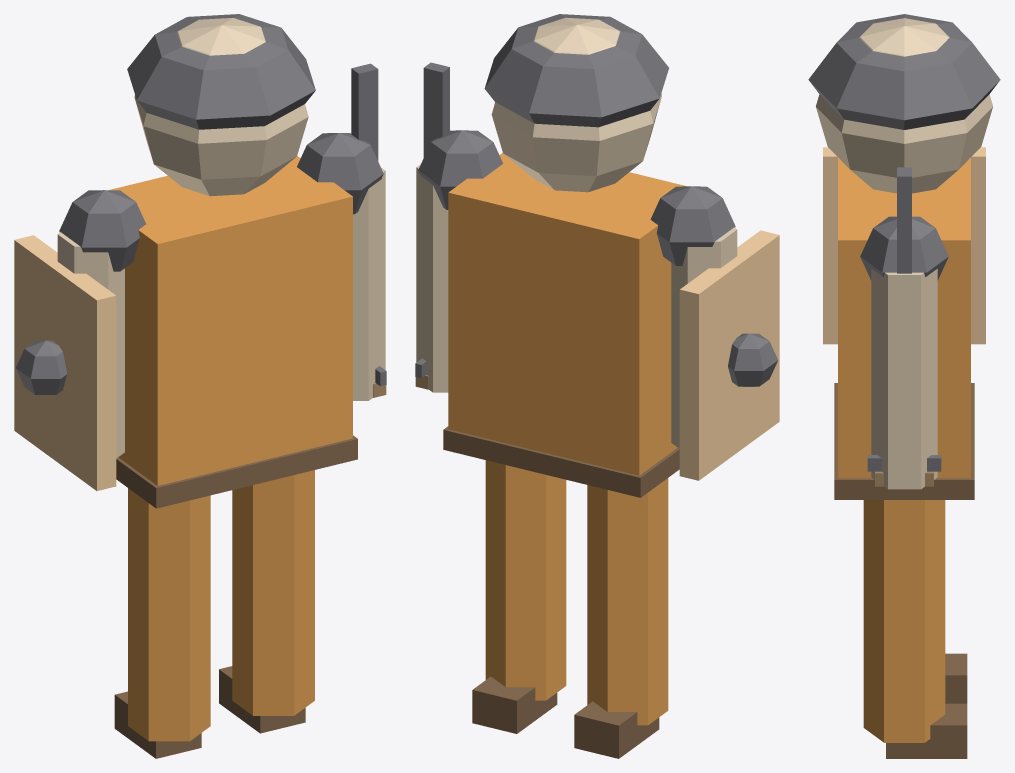
File: infantry_orange.glb
3 views of the same model, side by side, from view 1: azimuth 30°, elevation 25°; view 2: azimuth 150°, elevation 25°; view 3: azimuth 270°, elevation 25° (orthographic). The views are drawn at different scales.
Parts seen in each view (by area): view 1: Infantry_orange; view 2: Infantry_orange; view 3: Infantry_orange.
Part boxes in pixels (x1,y1,x2,y2): Infantry_orange: (14, 14, 386, 758); Infantry_orange: (415, 14, 779, 758); Infantry_orange: (808, 14, 1000, 758).
Bounding box in the file's own units: 0.5436 × 1.04 × 0.26.
